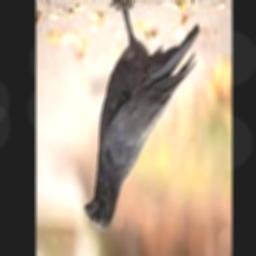Crow: (84, 0, 200, 231)
